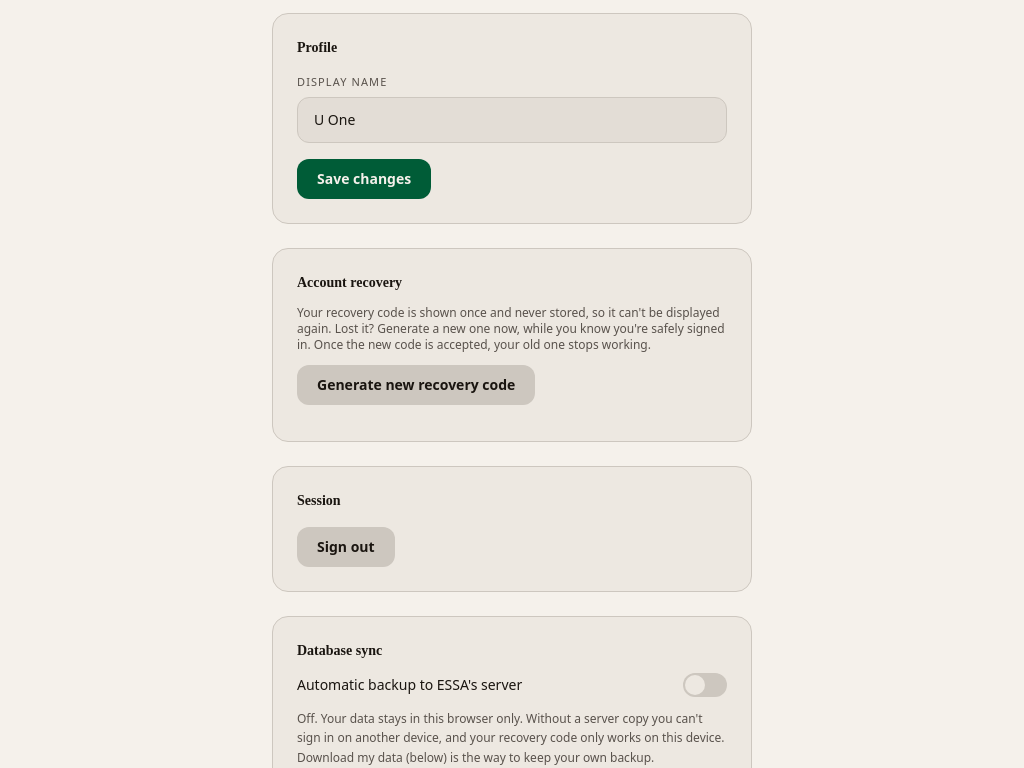
Scenario: regenerating from Profile › an acceptance shows the code, with its note when there is one
(page scrolled)
Click the button "Generate new recovery code" at (416, 384), box [297, 364, 535, 404]
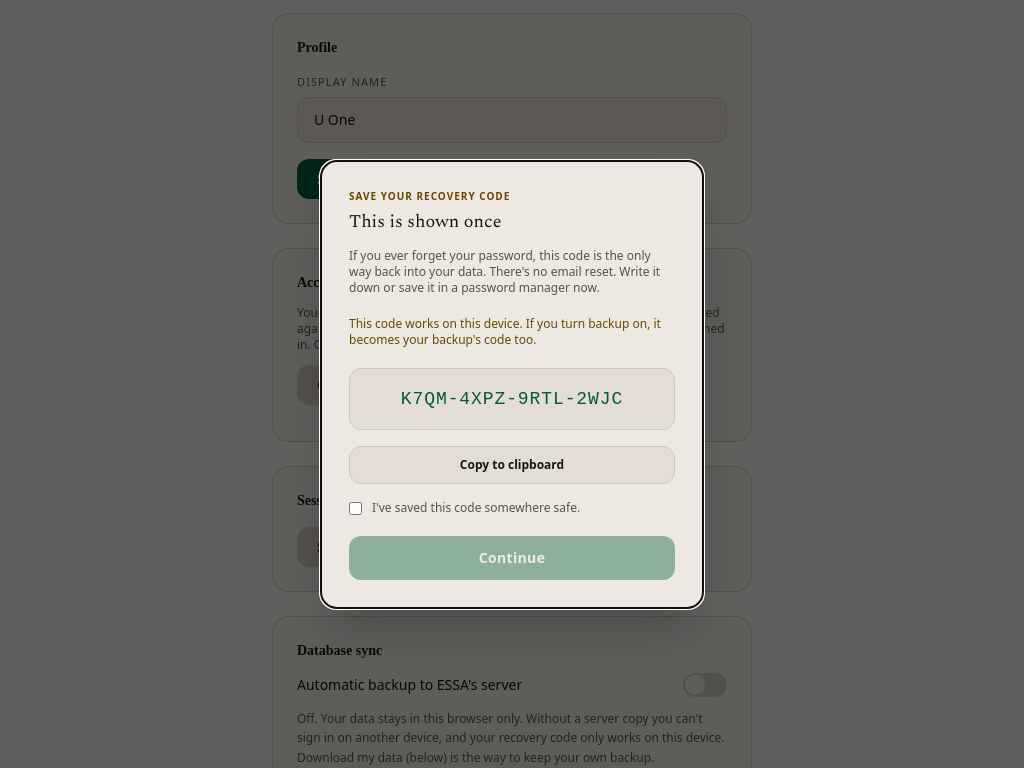
Check: the text "K7QM-4XPZ-9RTL-2WJC" is shown, box [349, 368, 675, 430]
Check: the heading "This is shown once" is shown, box [349, 208, 501, 234]
Check: the text "This code works on this device. If you turn backup on, it becomes your backup's code too." is shown, box [349, 314, 661, 348]
